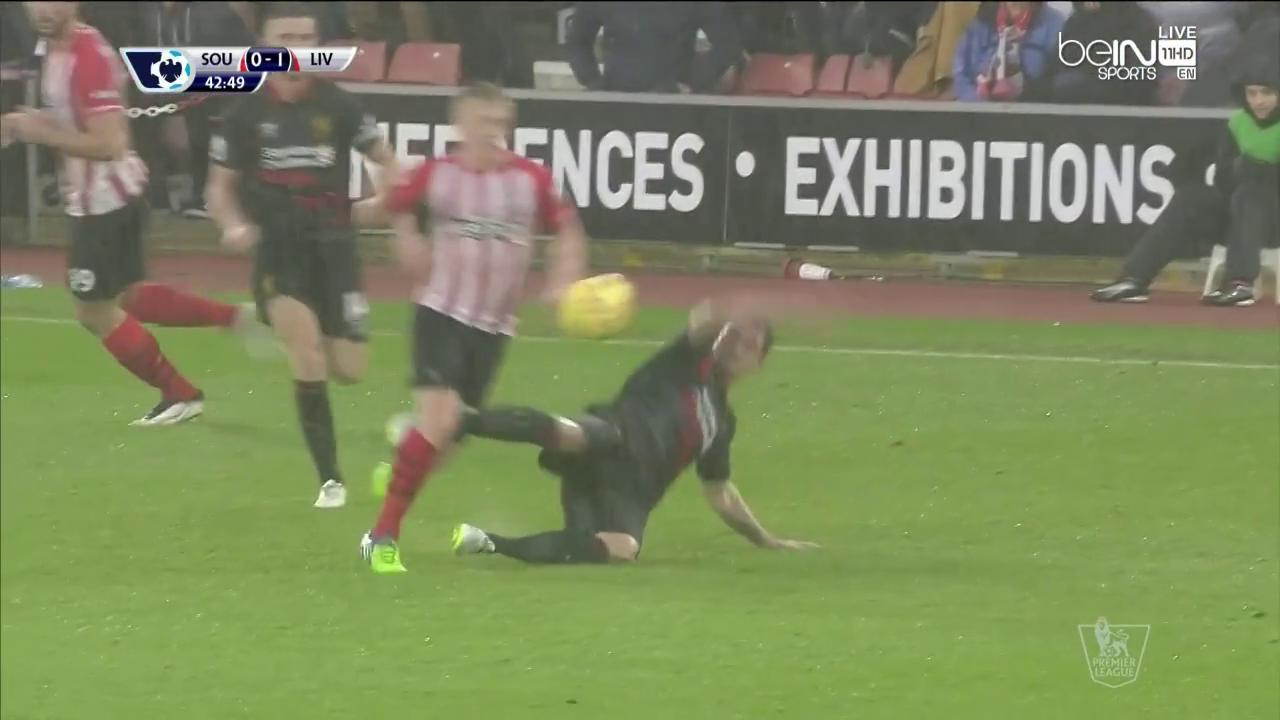football: (559, 269, 630, 345)
